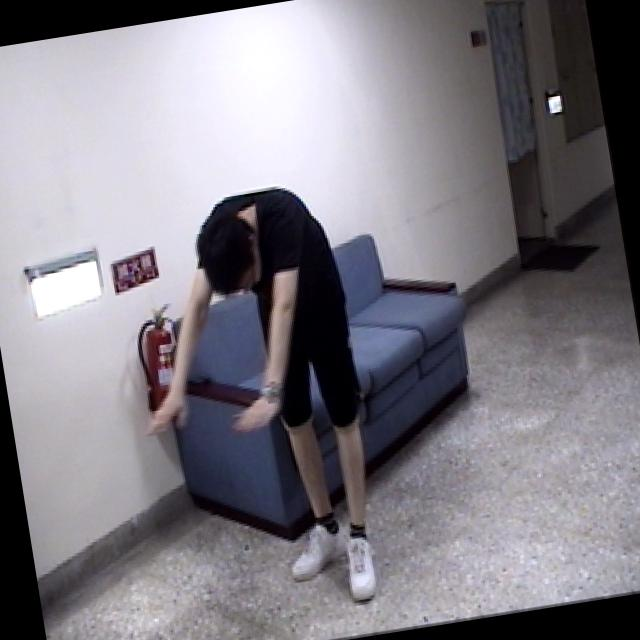bend: (112, 173, 395, 634)
